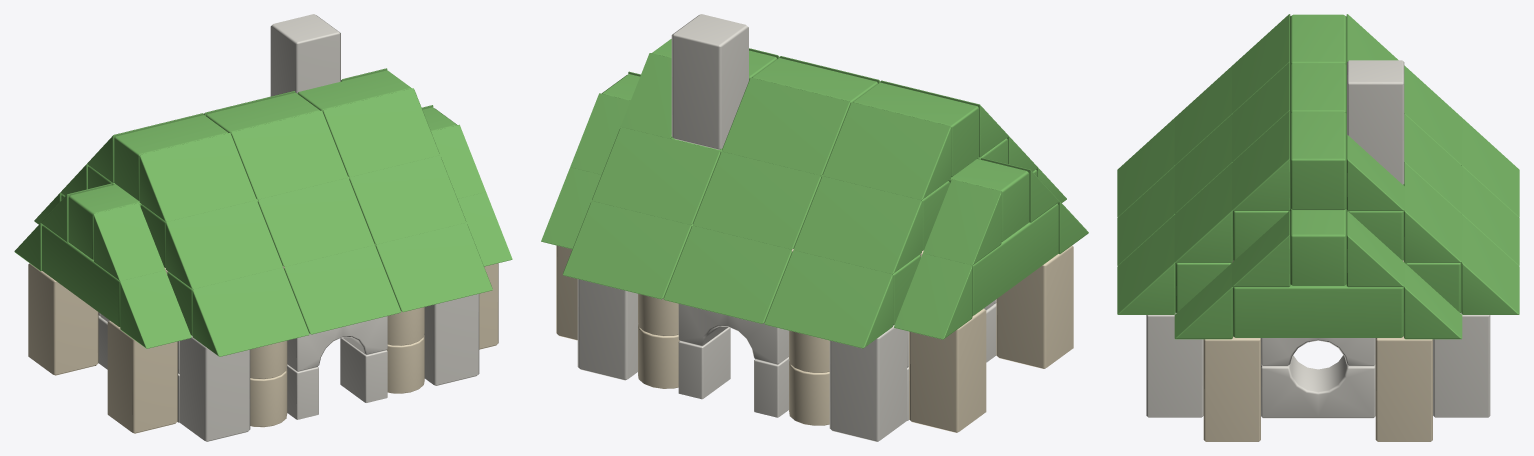
File: house middle F.fbx
3 views of the same model, side by side, from view 1: azimuth 30°, elevation 25°; view 2: azimuth 150°, elevation 25°; view 3: azimuth 270°, elevation 25° (orthographic). The views are drawn at different scales.
Parts seen in each view (by area): view 1: pCube60, pCube40; view 2: pCube60, pCube40; view 3: pCube60, pCube40.
Part boxes in pixels (<box>): pCube60: <box>14,68,512,356</box>; pCube40: <box>28,14,498,441</box>; pCube60: <box>541,39,1088,348</box>; pCube40: <box>556,14,1073,441</box>; pCube60: <box>1117,14,1519,339</box>; pCube40: <box>1146,60,1490,441</box>.
Bounding box in the file's own units: 84 × 63 × 73.64.
